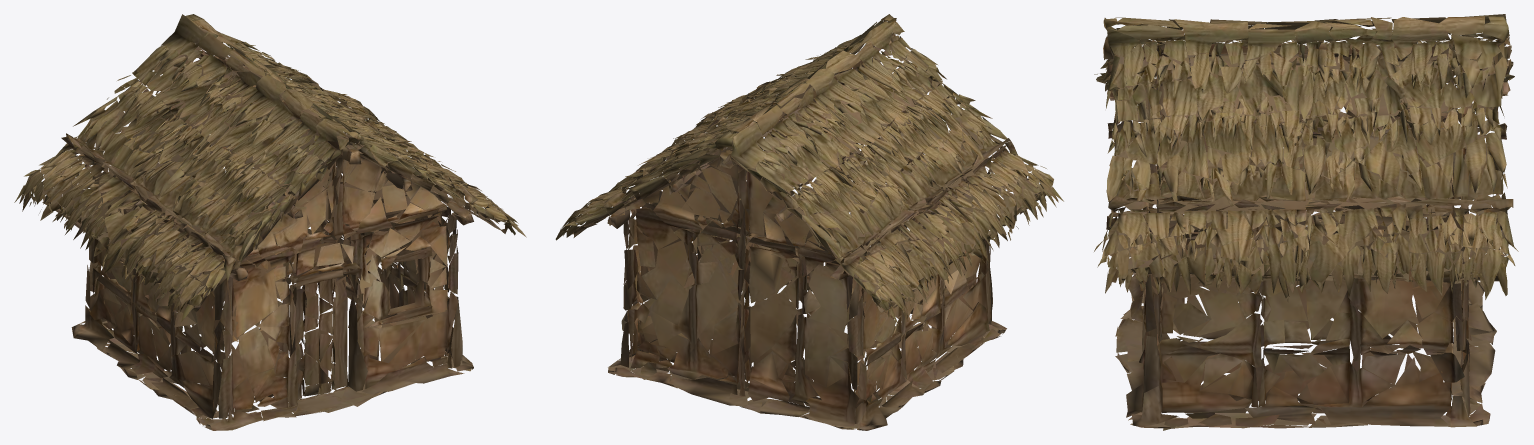
The model's file is palmares_casa.glb.
3 views of the same model, side by side, from view 1: azimuth 30°, elevation 25°; view 2: azimuth 150°, elevation 25°; view 3: azimuth 270°, elevation 25° (orthographic). The views are drawn at different scales.
Parts seen in each view (by area): view 1: Mesh_0; view 2: Mesh_0; view 3: Mesh_0.
Boxes of the visible parts, x1,y1,x2,y2 form: Mesh_0: [14, 14, 526, 430]; Mesh_0: [555, 14, 1063, 430]; Mesh_0: [1094, 14, 1518, 430].
Bounding box in the file's own units: 1.89 × 1.43 × 1.65.
1 material, 1 textured.
